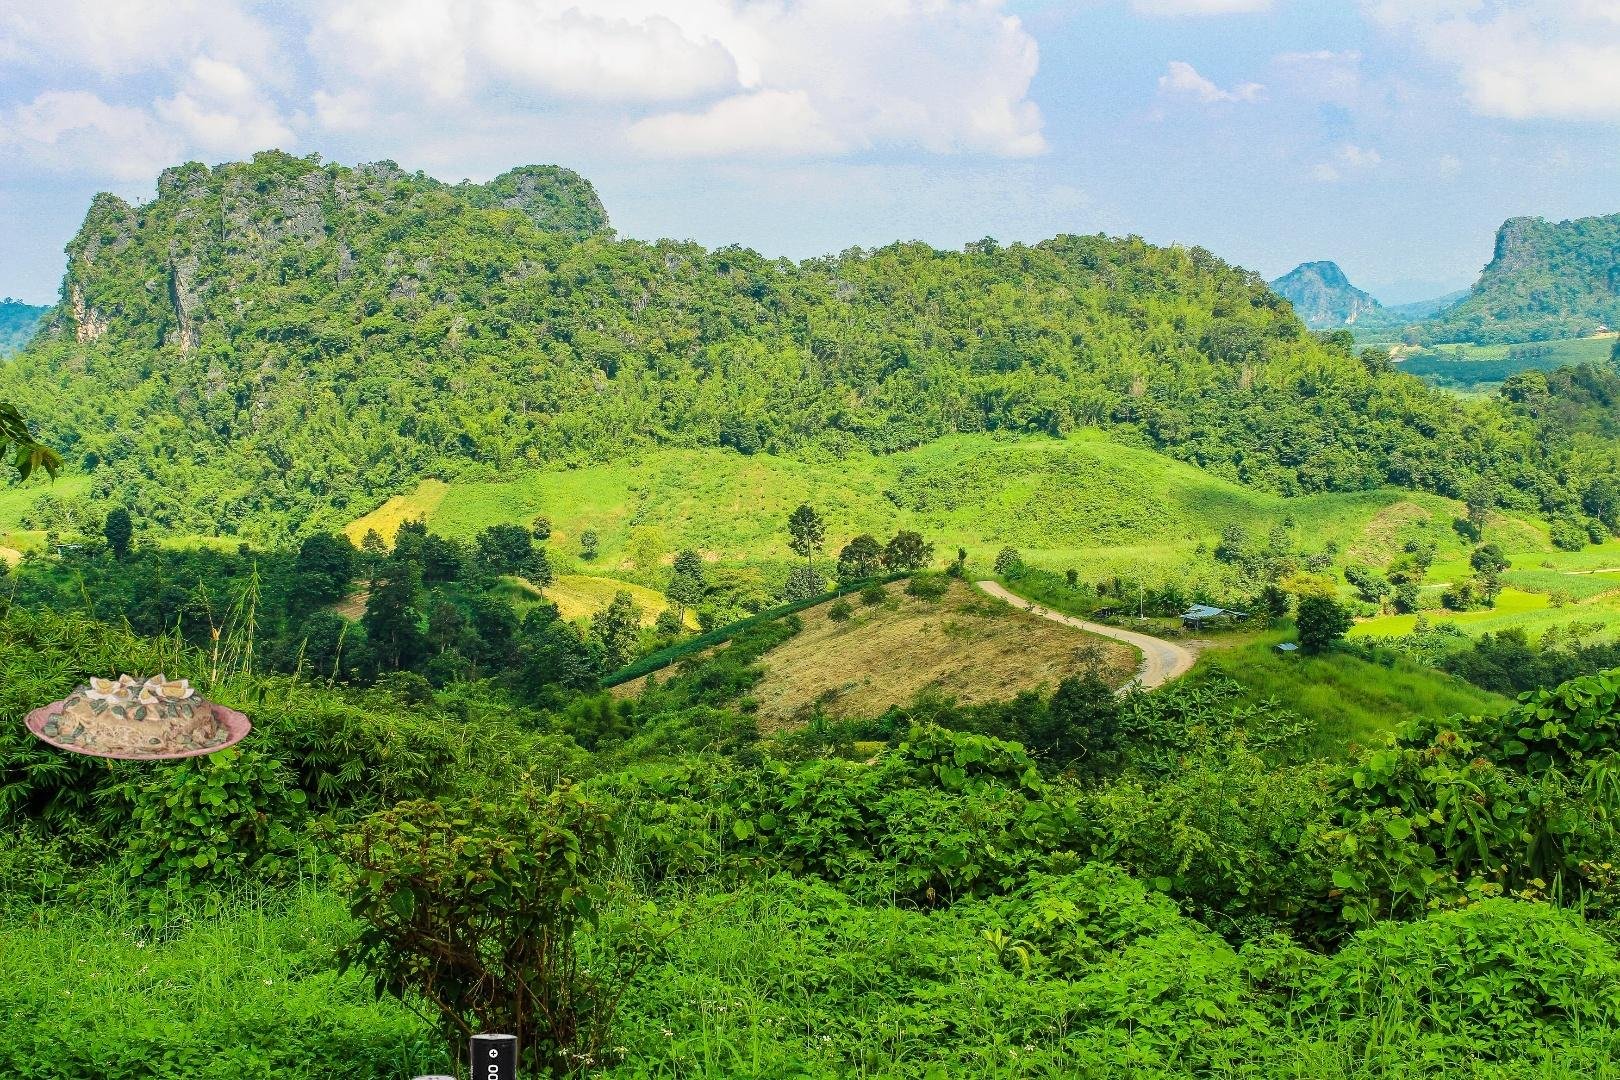battery: (372, 1031, 606, 1080)
biological: (20, 667, 259, 763)
